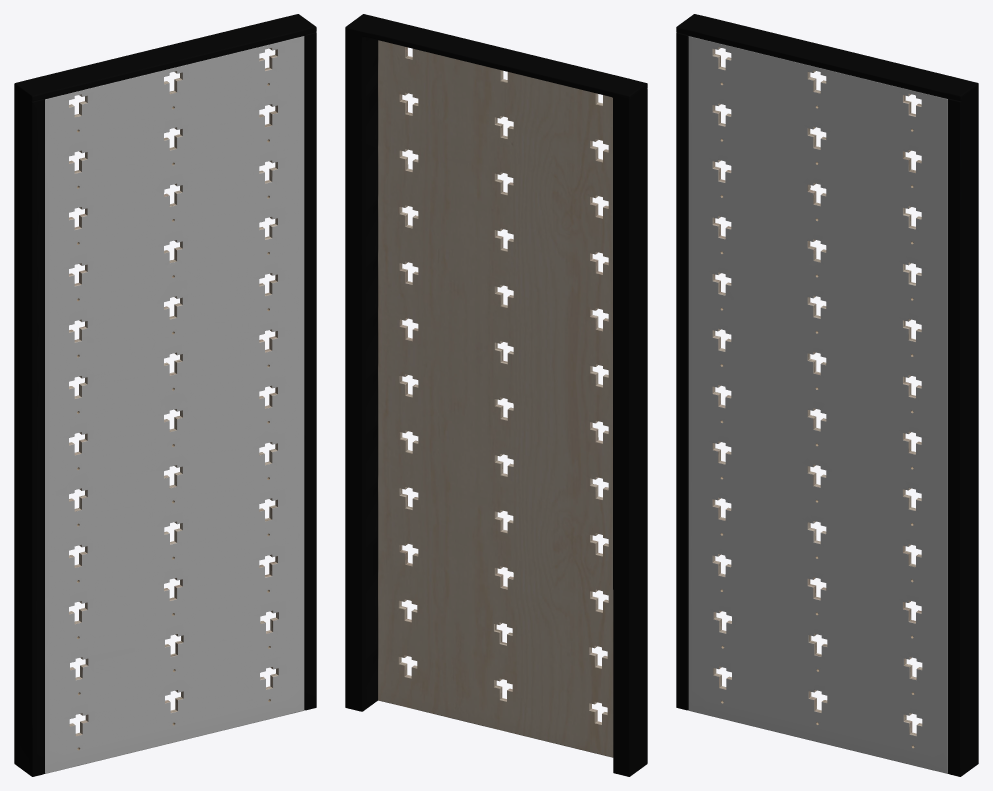
File: cubevision.glb
3 views of the same model, side by side, from view 1: azimuth 30°, elevation 25°; view 2: azimuth 150°, elevation 25°; view 3: azimuth 330°, elevation 25° (orthographic).
Visible parts, largest first — view 1: CS400023_Wall, CS400023_Frame; view 2: CS400023_Wall, CS400023_Frame; view 3: CS400023_Wall, CS400023_Frame.
Part boxes in pixels (bbox=[...]): CS400023_Wall: bbox=[44, 35, 304, 773]; CS400023_Frame: bbox=[14, 14, 316, 776]; CS400023_Wall: bbox=[377, 40, 613, 757]; CS400023_Frame: bbox=[345, 14, 647, 776]; CS400023_Wall: bbox=[688, 35, 947, 773]; CS400023_Frame: bbox=[676, 14, 978, 776].
Size of the model in its own units: 1.05 by 2.4 by 0.118.
Materials: 2 (1 with a texture image).
